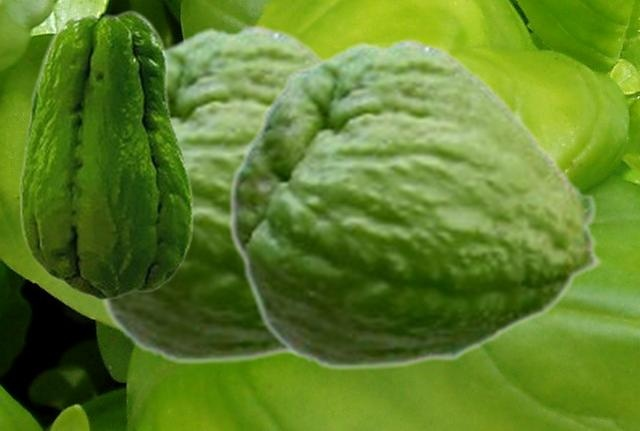sayote: (228, 37, 604, 371), (96, 23, 329, 365), (19, 9, 193, 300)
